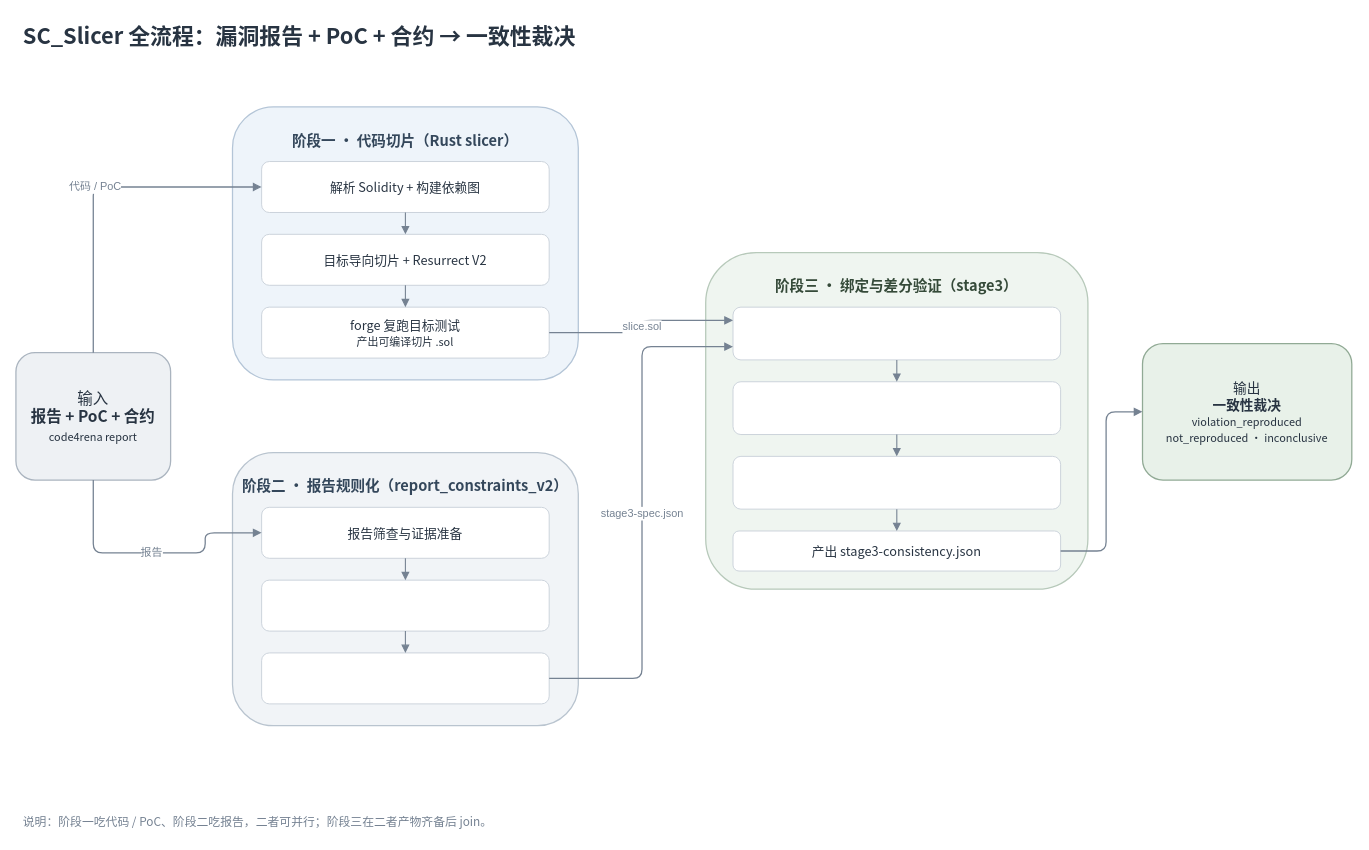
Image size: 1369x850. Some labels were removed from this diagram. Each missing label, with the centre of its shape:
Foundry 差分四查询 + 裁决回填: (x=896, y=482)
场景与 P / I / V 识别: (x=405, y=605)
生成补丁工程 original / patched: (x=896, y=408)
规则化 + Z3 检查 产出 stage3-spec.json 三件套: (x=405, y=678)
载入与绑定校验 可表达性 · 路由分类: (x=896, y=333)
